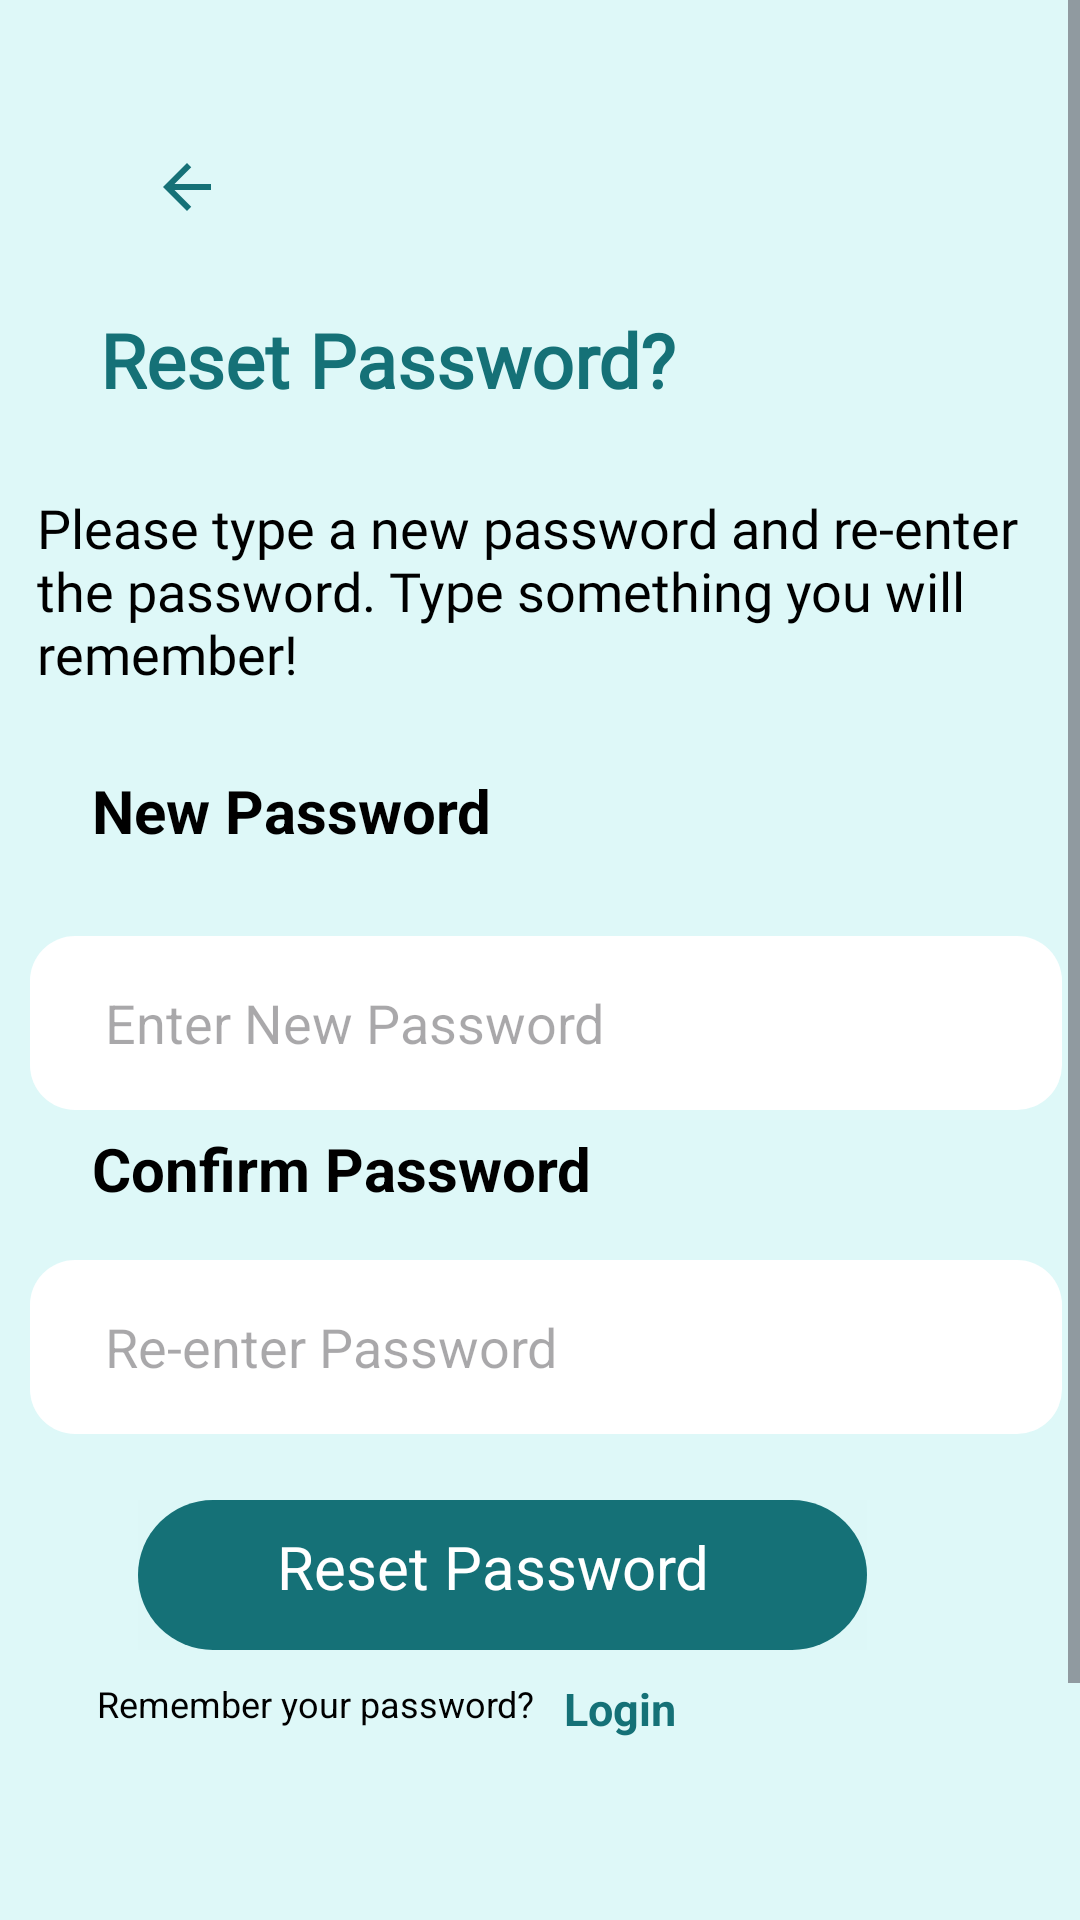

Icons on this 1080×1920 Android screen, each with its box as (x1, y1, x2, y2):
backbutton: (163, 163, 211, 211)
